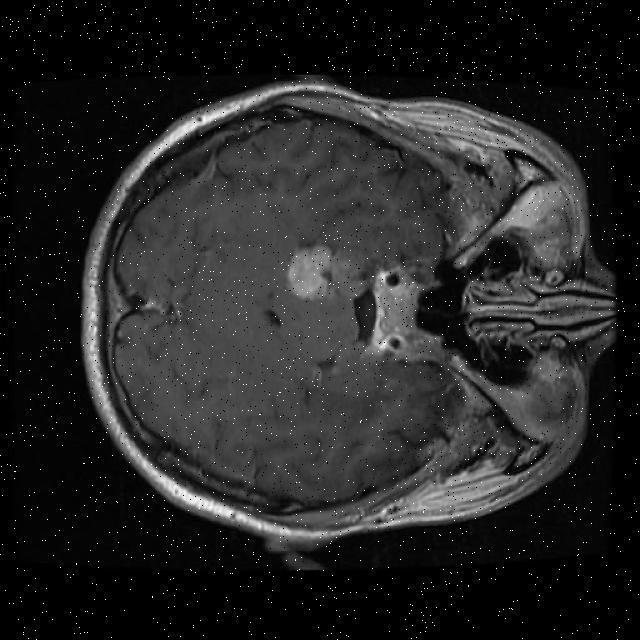Meningioma: (287, 245, 331, 299)
